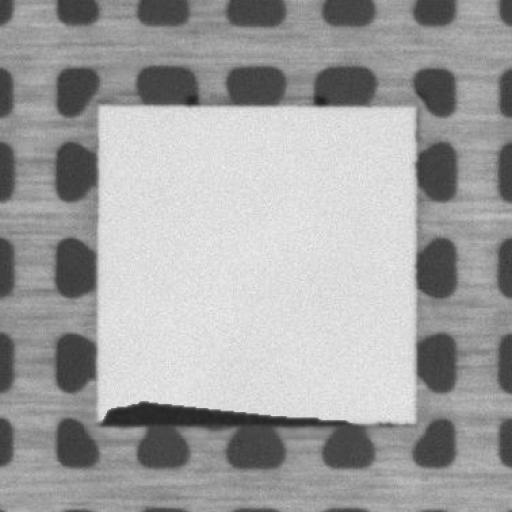DIE_BROKEN: (94, 396, 358, 432)
